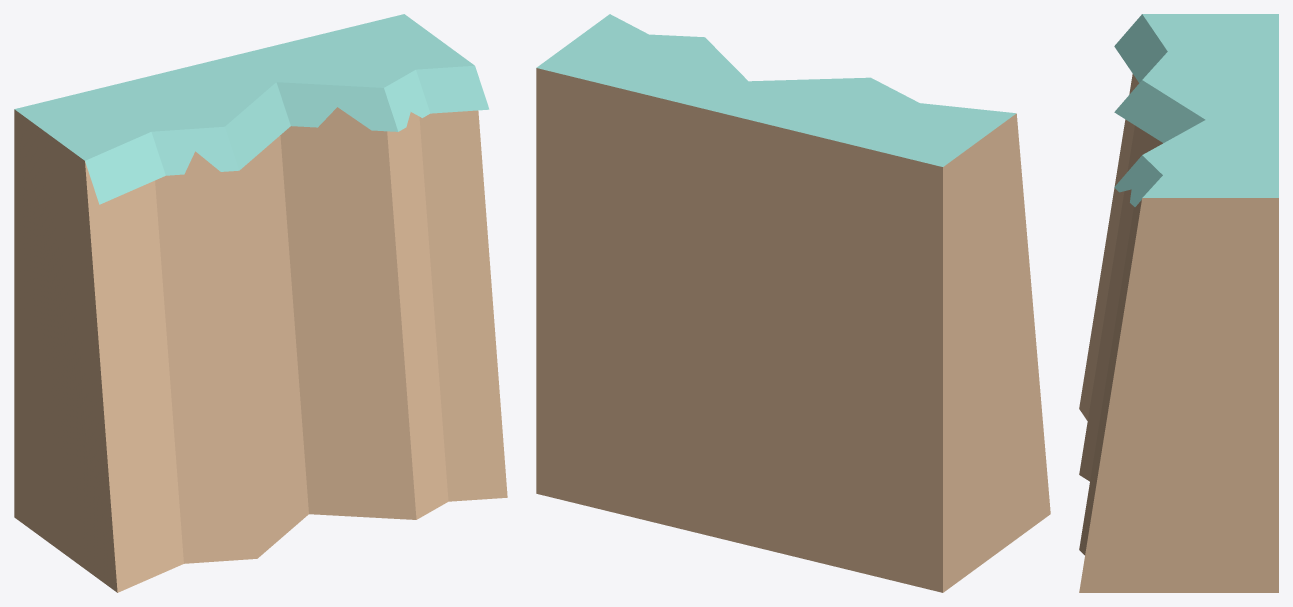
Rendered from cliffBrown_top.glb.
3 views of the same model, side by side, from view 1: azimuth 30°, elevation 25°; view 2: azimuth 150°, elevation 25°; view 3: azimuth 270°, elevation 25° (orthographic). The views are drawn at different scales.
Visible parts, largest first — view 1: cliffBrown_top; view 2: cliffBrown_top; view 3: cliffBrown_top.
Part boxes in pixels (x1,y1,x2,y2): cliffBrown_top: (14,14,507,592); cliffBrown_top: (536,14,1050,592); cliffBrown_top: (1079,14,1278,592).
Size of the model in its own units: 1 by 1 by 0.4584.
